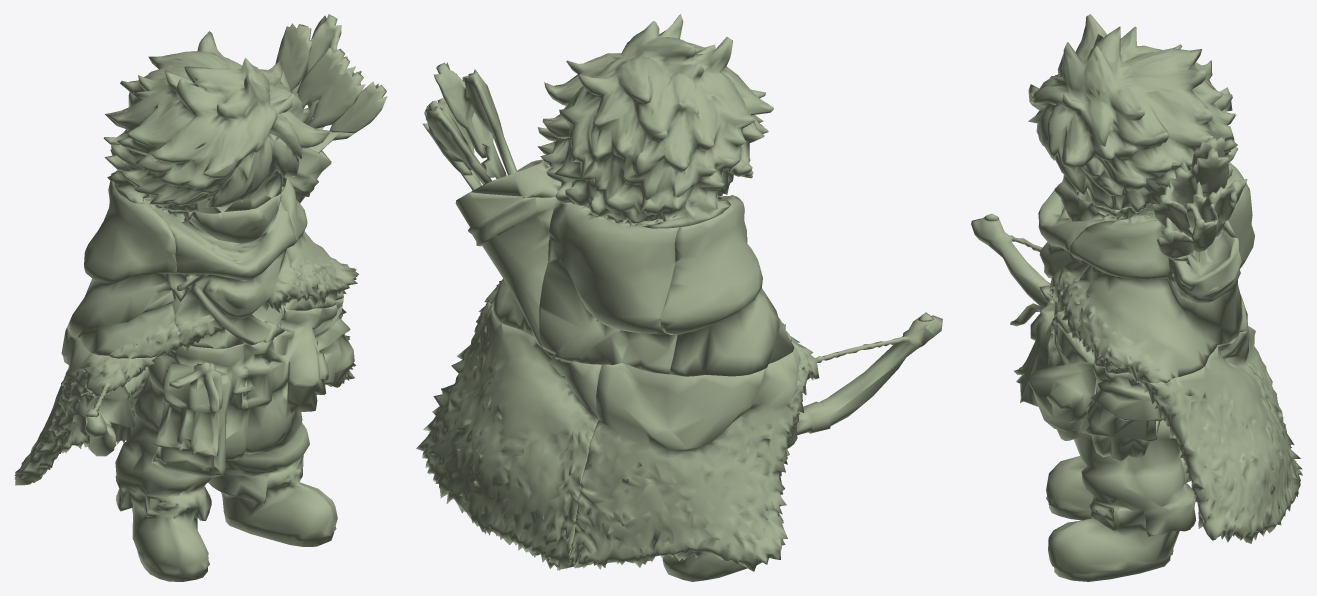
File: npc_mosscloak_ranger_ai_v1.glb
3 renders of one model, left to right at view 1: azimuth 30°, elevation 25°; view 2: azimuth 150°, elevation 25°; view 3: azimuth 270°, elevation 25°, orthographic. The views are drawn at different scales.
Visible parts, largest first — view 1: MosscloakRanger_Head, MosscloakRanger_Leg_R, MosscloakRanger_Leg_L, MosscloakRanger_Torso, MosscloakRanger_Arm_R, MosscloakRanger_Arm_L; view 2: MosscloakRanger_Leg_R, MosscloakRanger_Head, MosscloakRanger_Leg_L, MosscloakRanger_Torso, MosscloakRanger_Arm_R, MosscloakRanger_Arm_L; view 3: MosscloakRanger_Leg_L, MosscloakRanger_Head, MosscloakRanger_Arm_L, MosscloakRanger_Leg_R, MosscloakRanger_Torso.
Boxes of the visible parts, left/top/right/bottom form: MosscloakRanger_Head: left=103, top=14, right=387, bottom=213; MosscloakRanger_Leg_R: left=14, top=327, right=248, bottom=581; MosscloakRanger_Leg_L: left=208, top=290, right=356, bottom=546; MosscloakRanger_Torso: left=115, top=170, right=301, bottom=351; MosscloakRanger_Arm_R: left=67, top=180, right=179, bottom=417; MosscloakRanger_Arm_L: left=280, top=127, right=358, bottom=316; MosscloakRanger_Leg_R: left=569, top=315, right=942, bottom=581; MosscloakRanger_Head: left=423, top=14, right=773, bottom=228; MosscloakRanger_Leg_L: left=416, top=300, right=601, bottom=570; MosscloakRanger_Torso: left=539, top=193, right=744, bottom=374; MosscloakRanger_Arm_R: left=660, top=197, right=933, bottom=376; MosscloakRanger_Arm_L: left=455, top=170, right=556, bottom=347; MosscloakRanger_Leg_L: left=1028, top=315, right=1302, bottom=581; MosscloakRanger_Head: left=1028, top=14, right=1247, bottom=259; MosscloakRanger_Arm_L: left=1058, top=204, right=1242, bottom=382; MosscloakRanger_Leg_R: left=971, top=218, right=1302, bottom=520; MosscloakRanger_Torso: left=1038, top=162, right=1254, bottom=338.
Size of the model in its own units: 1.59 by 1.9 by 1.14.
